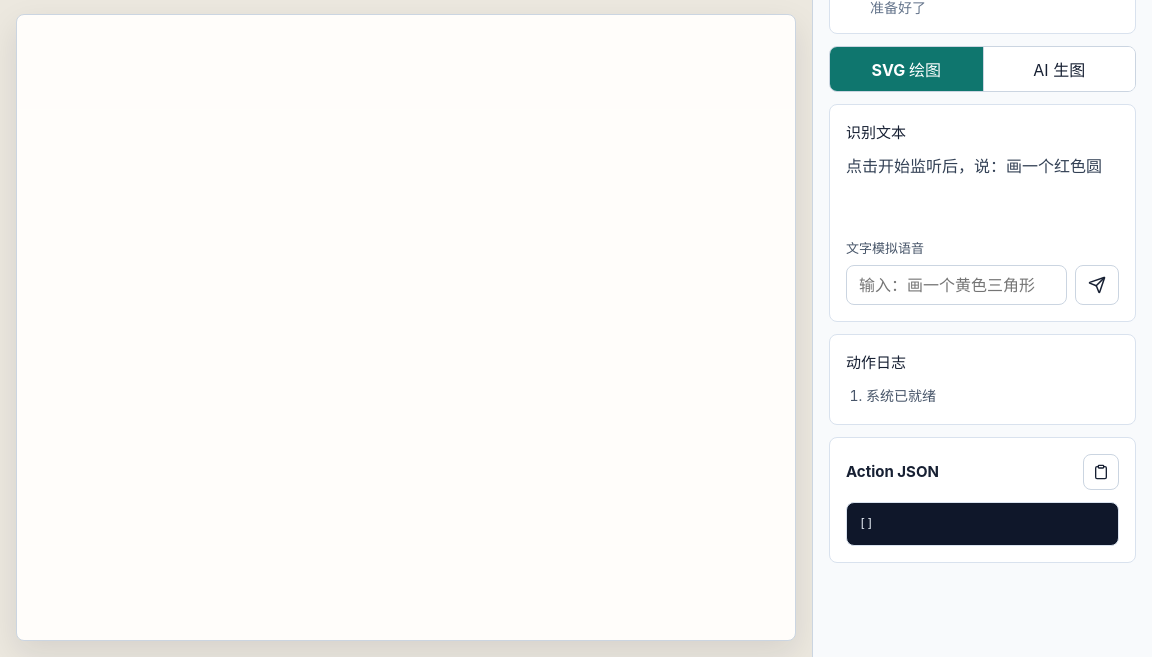
it: App › shows prepared action JSON after a simulated voice command
This screenshot has width=1152, height=657.
Step 1. Type "画一个红色圆" into the field labelled "文字模拟语音" → (956, 285), box [846,265,1067,305]
Then press Enter
(page scrolled)
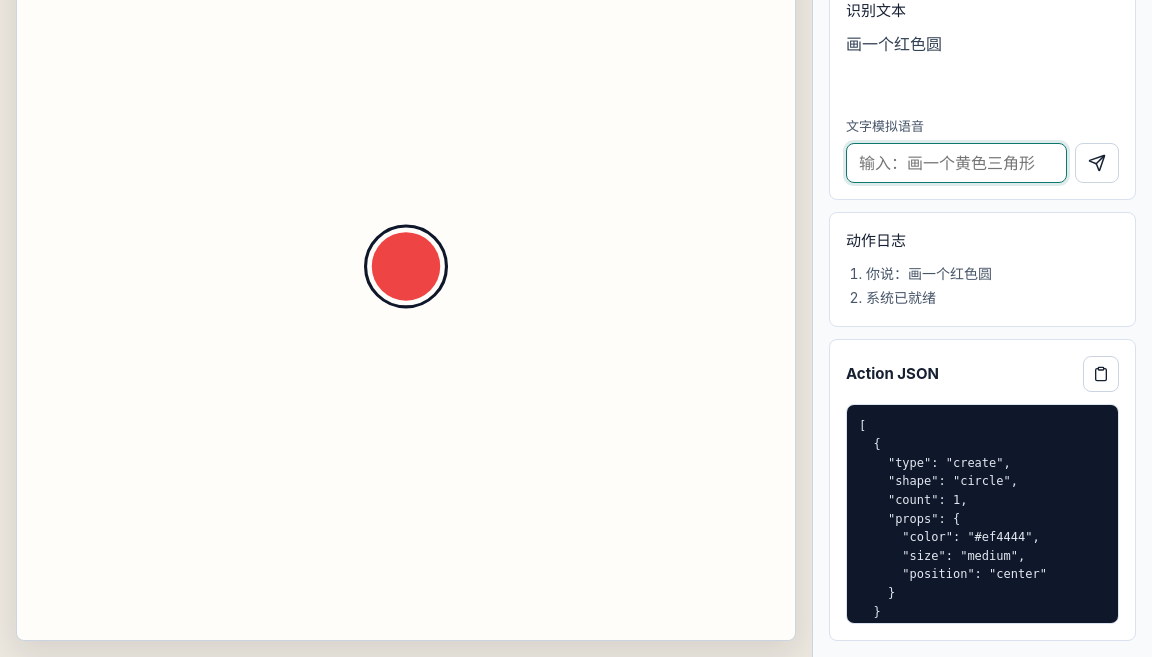
Check: the heading "Action JSON" is shown, box [846,364,939,383]
Check: the text "\"shape\": \"circle\"" is shown, box [859,419,1047,637]
